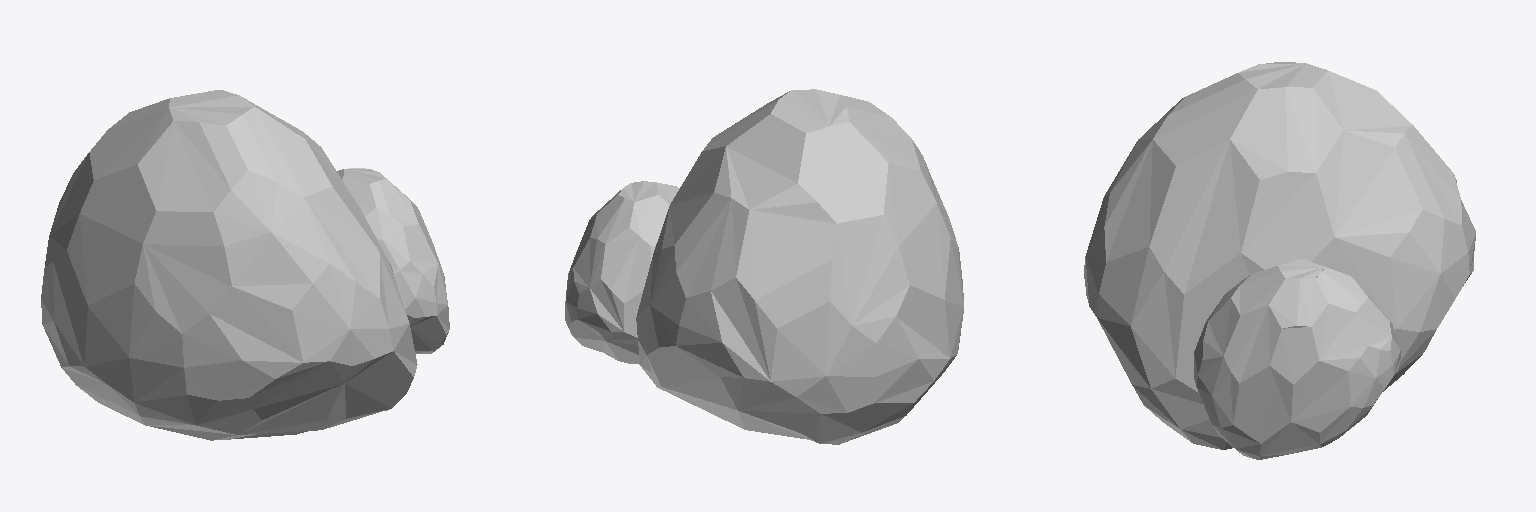
Rendered from two_stones.obj.
The picture shows the model from 3 angles: view 1: azimuth 30°, elevation 25°; view 2: azimuth 150°, elevation 25°; view 3: azimuth 270°, elevation 25°; orthographic projection.
Visible parts, largest first — view 1: Icosphere.013; view 2: Icosphere.013; view 3: Icosphere.013.
Boxes of the visible parts, x1,y1,x2,y2 form: Icosphere.013: [41, 90, 449, 440]; Icosphere.013: [565, 89, 963, 444]; Icosphere.013: [1084, 62, 1475, 459].
Size of the model in its own units: 0.9778 by 0.8549 by 0.939.